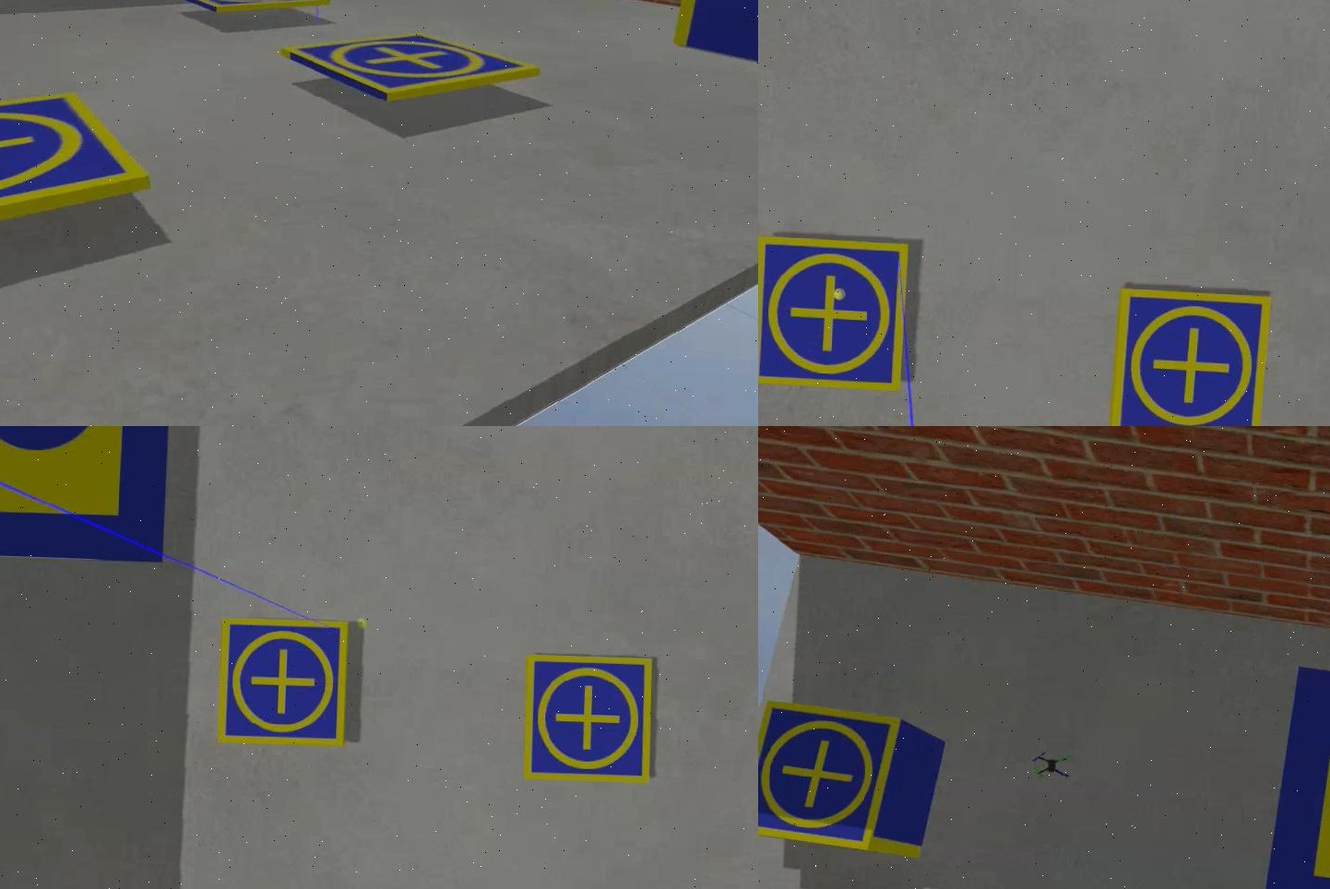large_base: (0, 426, 169, 564)
small_base: (0, 78, 153, 301), (756, 234, 909, 397), (1106, 284, 1273, 426), (756, 701, 907, 857), (282, 25, 538, 105), (212, 621, 347, 749), (523, 654, 651, 788), (168, 1, 321, 21)
